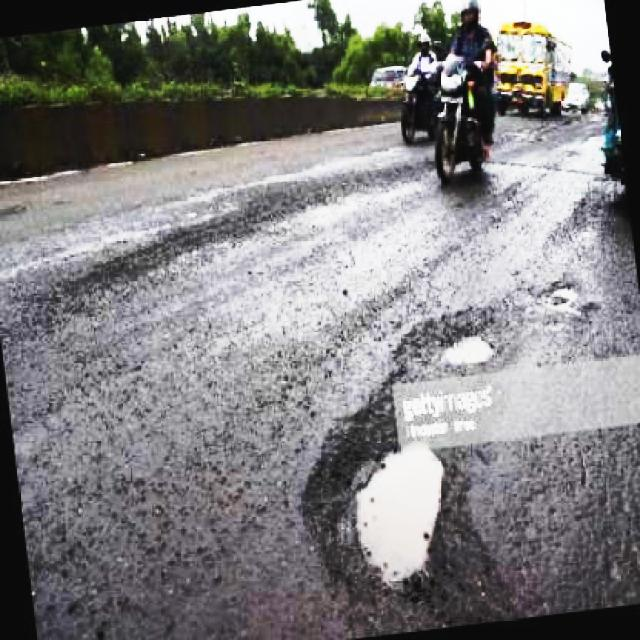pothole: (310, 403, 496, 628), (388, 302, 515, 396), (542, 279, 596, 326)
